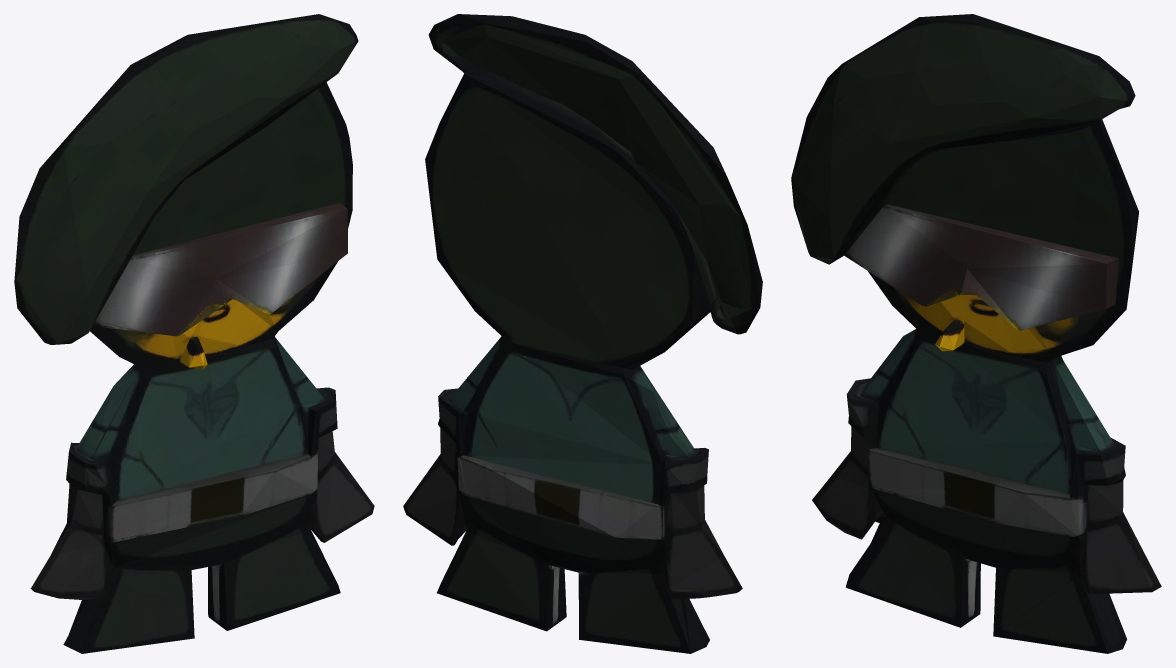
Rendered from noxx.glb.
3 renders of one model, left to right at view 1: azimuth 30°, elevation 25°; view 2: azimuth 150°, elevation 25°; view 3: azimuth 330°, elevation 25°, orthographic. The views are drawn at different scales.
Parts seen in each view (by area): view 1: geometry_0; view 2: geometry_0; view 3: geometry_0.
Part boxes in pixels (x1,y1,x2,y2): geometry_0: [14, 14, 374, 653]; geometry_0: [403, 14, 762, 653]; geometry_0: [791, 14, 1161, 653].
Bounding box in the file's own units: 0.6329 × 0.9975 × 0.1309.
Materials: 1 (1 with a texture image).
